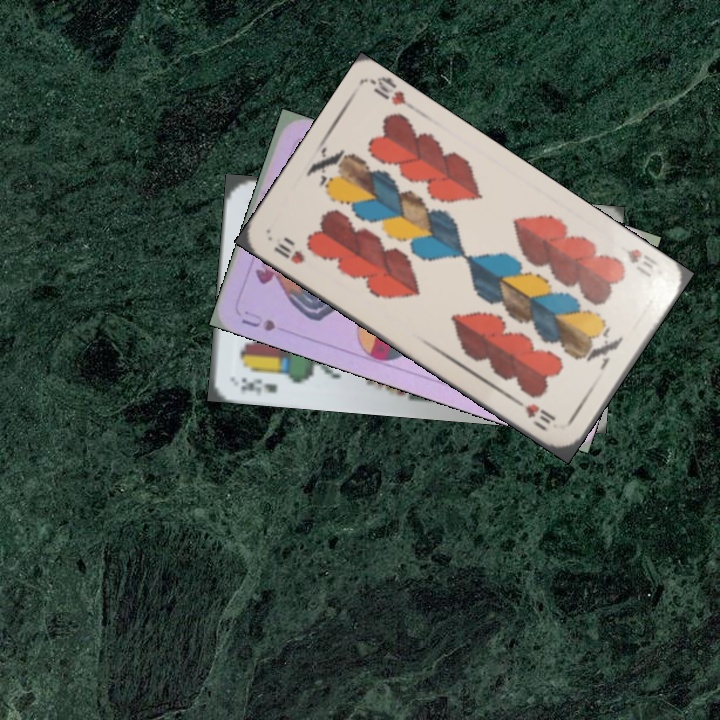EK: (237, 373, 279, 397)
H10: (269, 233, 308, 267), (622, 244, 661, 275)
SU: (237, 306, 281, 335)
